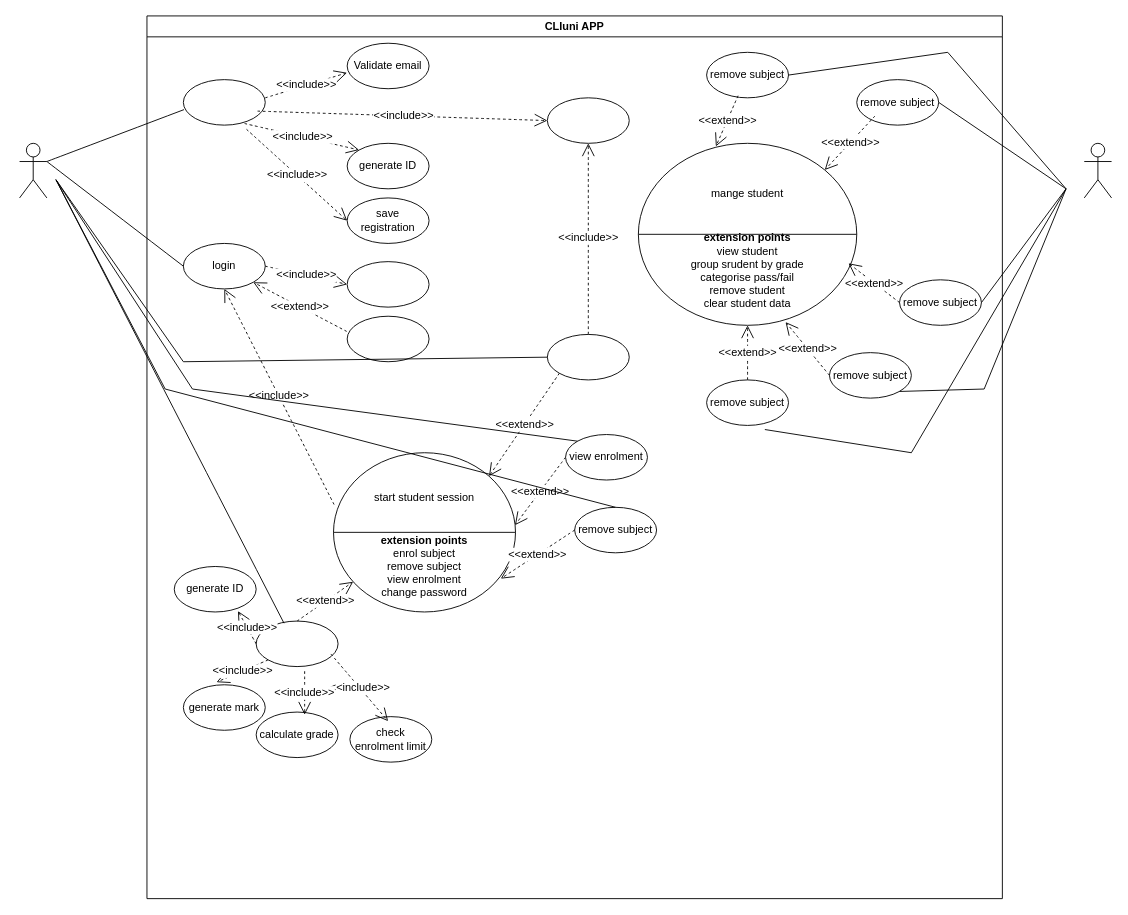
Some shapes in this 1128 by 915 pixel diagram are drawn without their labels. Here are the shapes that lost their labels. From the top down, the centre of each, then its label:
the point at 223,102: register
the point at 587,120: validate password
the point at 33,170: student
the point at 1097,170: admin
the point at 387,284: verify credentials
the point at 387,338: login Error
the point at 587,357: change password
the point at 296,643: enrol subject
